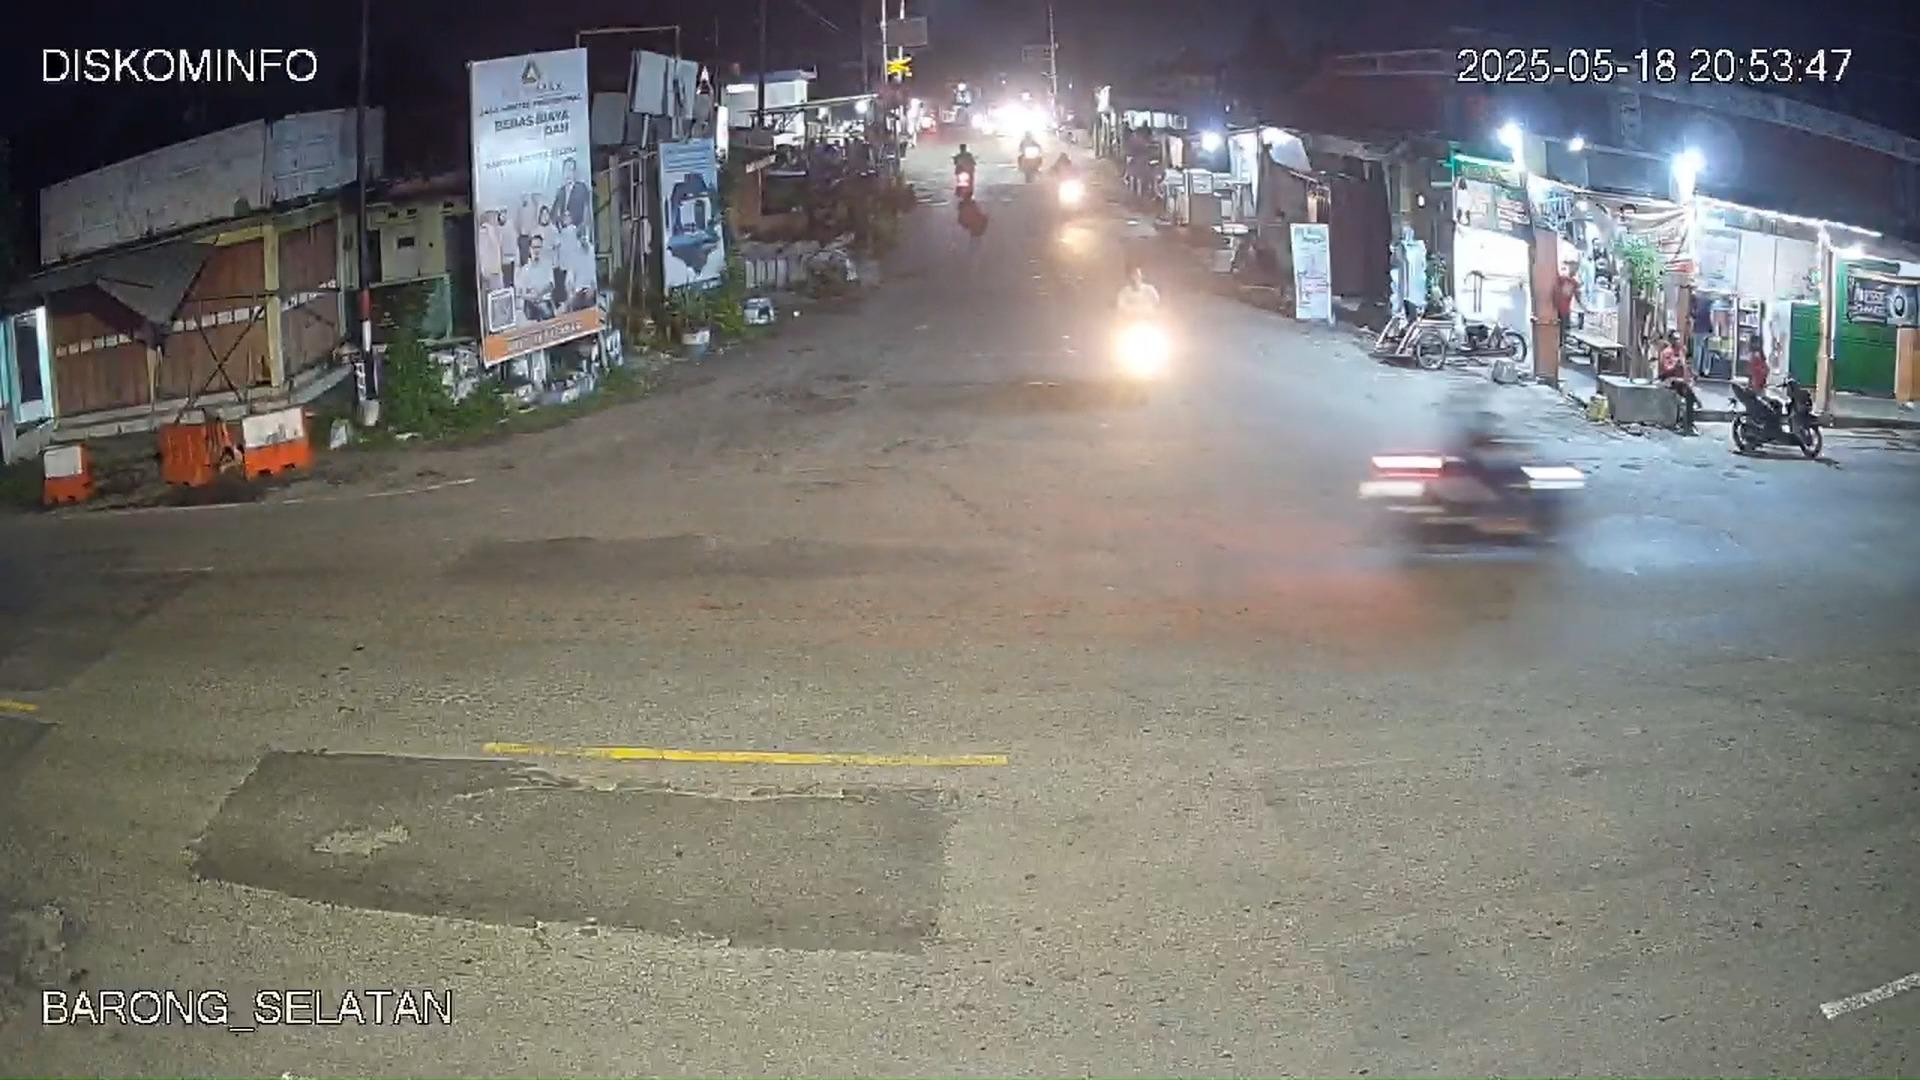Motor: (1350, 406, 1560, 566), (1730, 372, 1828, 460), (1110, 281, 1174, 381), (952, 146, 976, 199)
